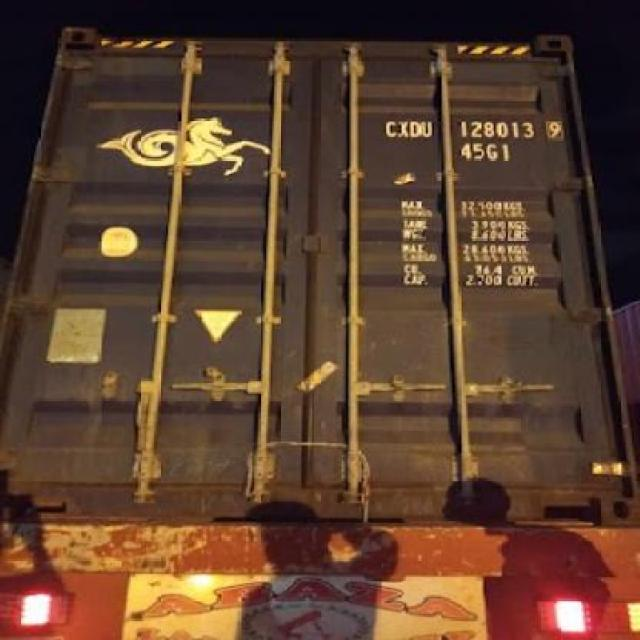ISO: (458, 141, 511, 161)
container_number: (387, 118, 565, 140)
